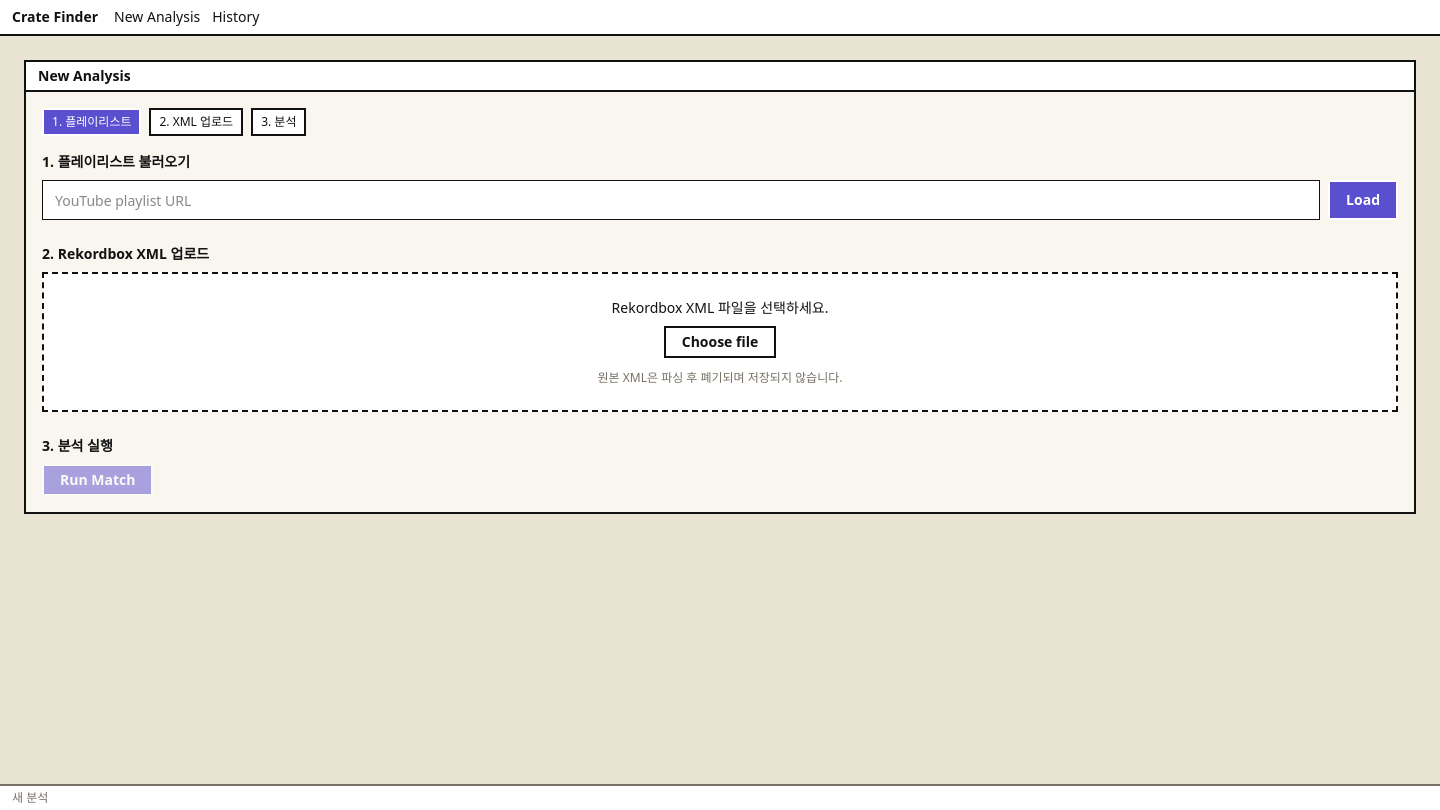
Test case: AnalysisFlow › URL 오류 시 에러 메시지를 즉시 표시한다
Type "bad" into the field with placeholder "YouTube playlist URL" at x=681, y=200, box 42,180 -> 1320,220
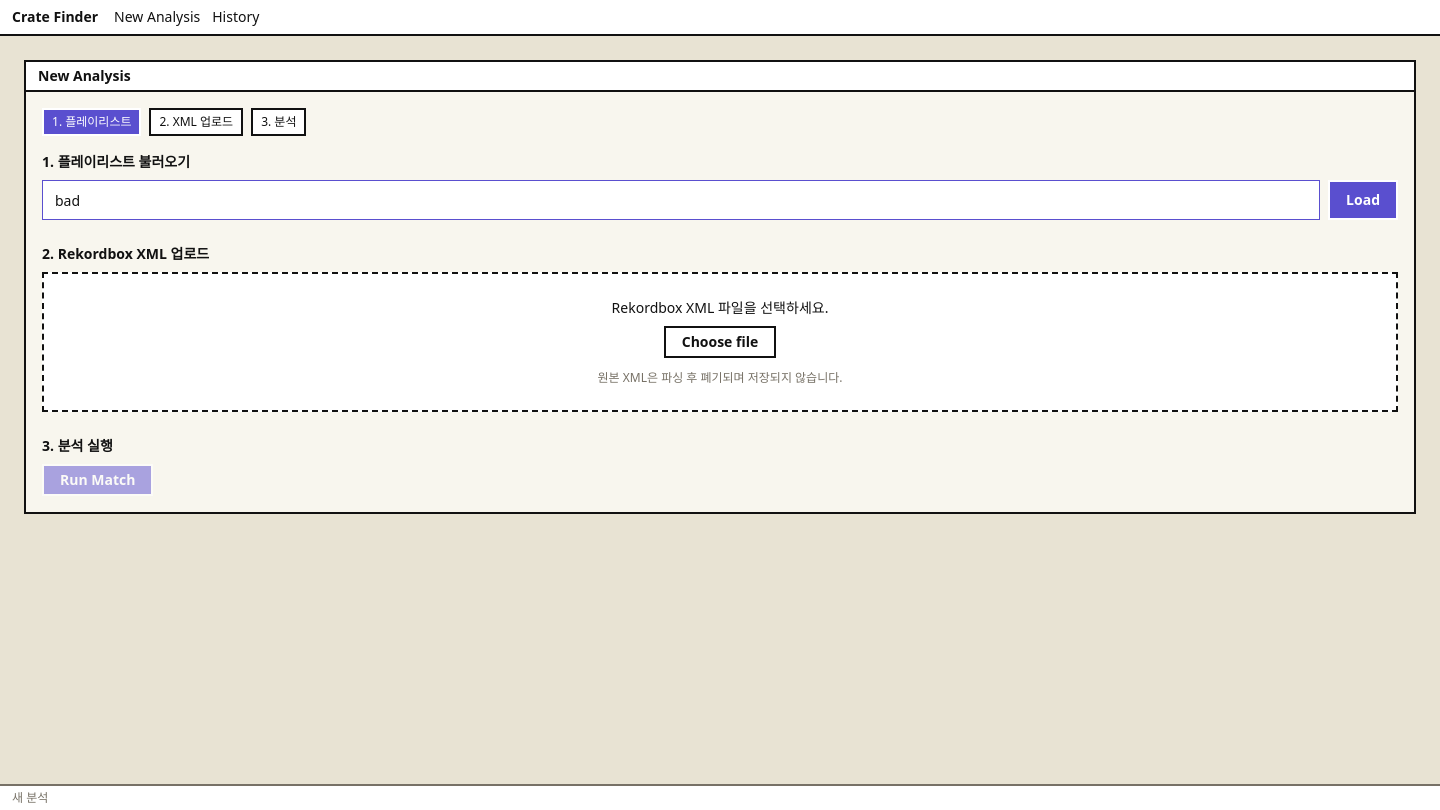
Click the button "Load" at x=1363, y=200, box 1328,180 -> 1398,220
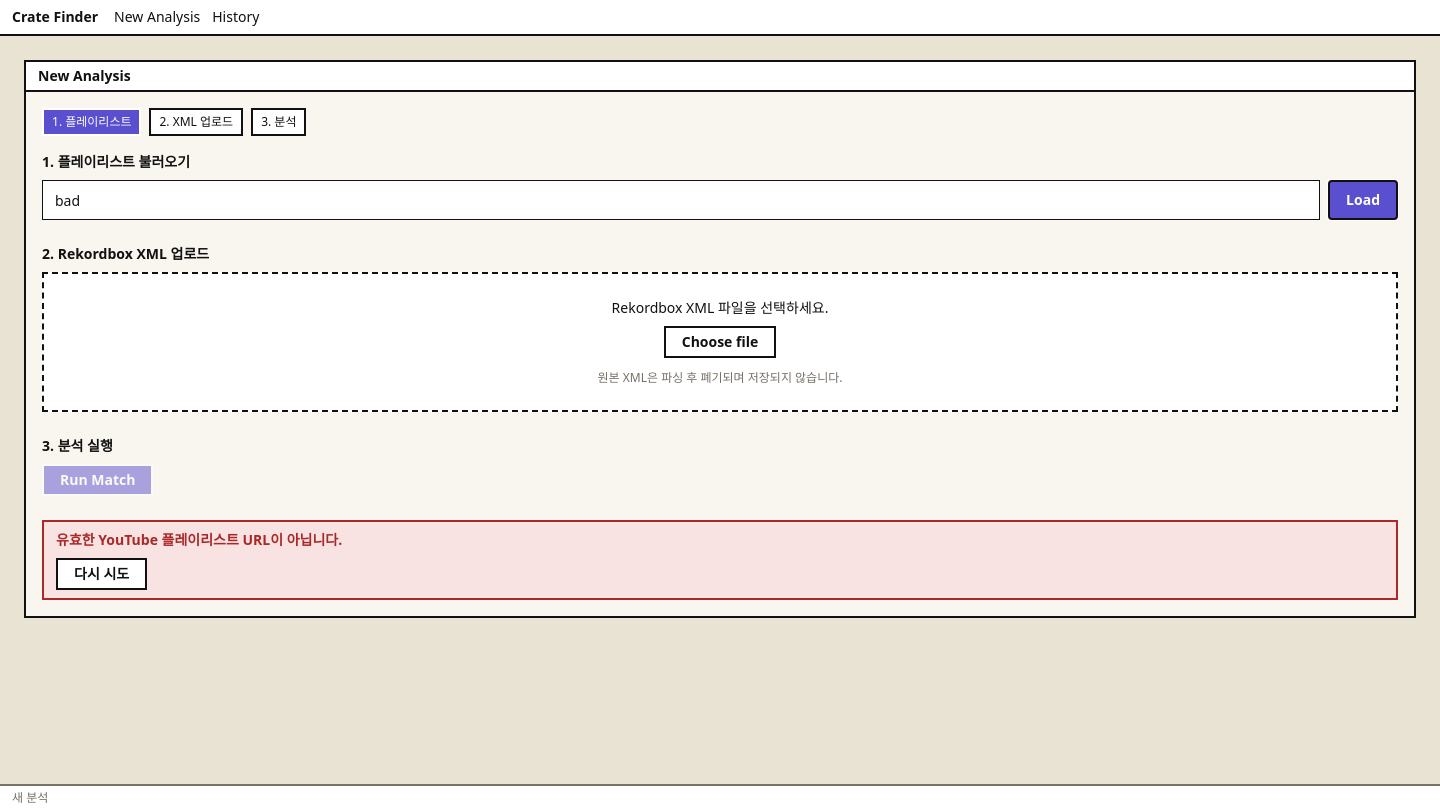
Check: the message shows "유효한 YouTube", box 56,530 -> 342,549
